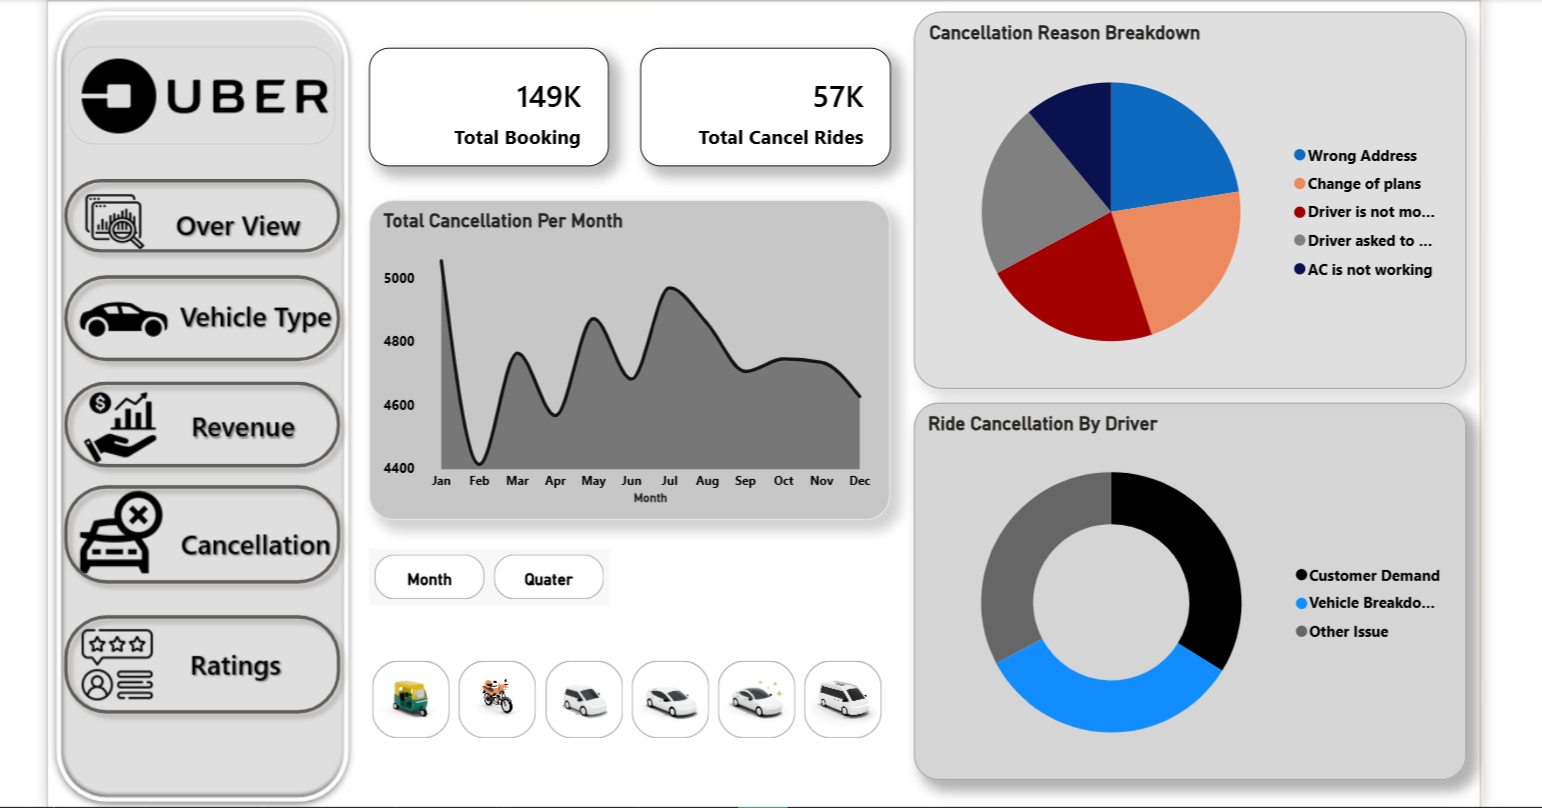

The dashboard page shown, as its layout file describes it:
{"tool":"powerbi","page":{"name":"Cancellation","canvas":[1280,720],"ordinal":4},"visuals":[{"type":"actionButton","box":[6.1,150.9,263.8,83.4],"z":0},{"type":"actionButton","box":[6.1,236.8,263.8,94.5],"z":1000},{"type":"actionButton","box":[6.1,331.3,263.8,94.5],"z":2000},{"type":"actionButton","box":[6.1,424.5,263.8,105.5],"z":3000},{"type":"actionButton","box":[6.1,539.9,263.8,105.5],"z":4000},{"type":"actionButton","box":[20,42.9,237.1,87.1],"z":5000},{"type":"pieChart","title":"Cancellation Reason Breakdown","fields":{"Category":["Uber_dataset.Reason for cancelling by Customer"],"Y":["_Measures.Total Booking"]},"box":[773,11,492,336.2],"z":6000},{"type":"donutChart","title":"Ride Cancellation By Driver ","fields":{"Category":["Uber_dataset.Incomplete Rides Reason"],"Y":["CountNonNull(Uber_dataset.Incomplete Rides)"]},"box":[773,359.5,492,336.2],"z":7000},{"type":"cardVisual","fields":{"Data":["_Measures.Total Booking"]},"box":[287.1,42.9,213.5,105.5],"z":8000},{"type":"cardVisual","fields":{"Data":["_Measures.Total Cancel Rides"]},"box":[528.8,42.9,223.3,105.5],"z":9000},{"type":"advancedSlicerVisual","fields":{"Values":["Uber_Image.Vehicle Type"]},"box":[277.3,576.7,483.4,95.7],"z":10000},{"type":"areaChart","title":"Total Cancellation Per Month","fields":{"Category":["_Date.Month","_Date.Quater"],"Y":["_Measures.Total Cancel Rides"]},"box":[287.1,179.1,463.8,284.7],"z":11000},{"type":"advancedSlicerVisual","fields":{"Values":["Date Axiz.Date Axiz"]},"box":[287.1,489.6,214.7,50.3],"z":12000}]}

Visuals, with their boxes on the page's 1280x720 design canvas (x1, y1, x2, y2). These are canvas units, not pixel positions in the 1542x808 screenshot, which may show the page scaled, cropped or inside an application window:
actionButton: (left=6, top=151, right=270, bottom=234)
actionButton: (left=6, top=237, right=270, bottom=331)
actionButton: (left=6, top=331, right=270, bottom=426)
actionButton: (left=6, top=424, right=270, bottom=530)
actionButton: (left=6, top=540, right=270, bottom=645)
actionButton: (left=20, top=43, right=257, bottom=130)
"Cancellation Reason Breakdown" pieChart: (left=773, top=11, right=1265, bottom=347)
"Ride Cancellation By Driver " donutChart: (left=773, top=360, right=1265, bottom=696)
cardVisual - _Measures.Total Booking: (left=287, top=43, right=501, bottom=148)
cardVisual - _Measures.Total Cancel Rides: (left=529, top=43, right=752, bottom=148)
advancedSlicerVisual - Uber_Image.Vehicle Type: (left=277, top=577, right=761, bottom=672)
"Total Cancellation Per Month" areaChart: (left=287, top=179, right=751, bottom=464)
advancedSlicerVisual - Date Axiz.Date Axiz: (left=287, top=490, right=502, bottom=540)
